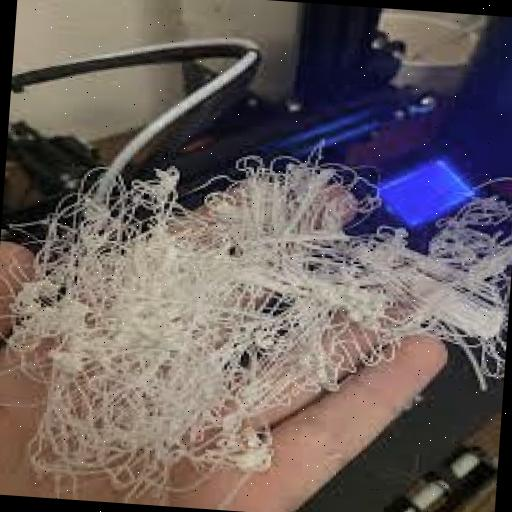spaghetti: (24, 160, 492, 502)
